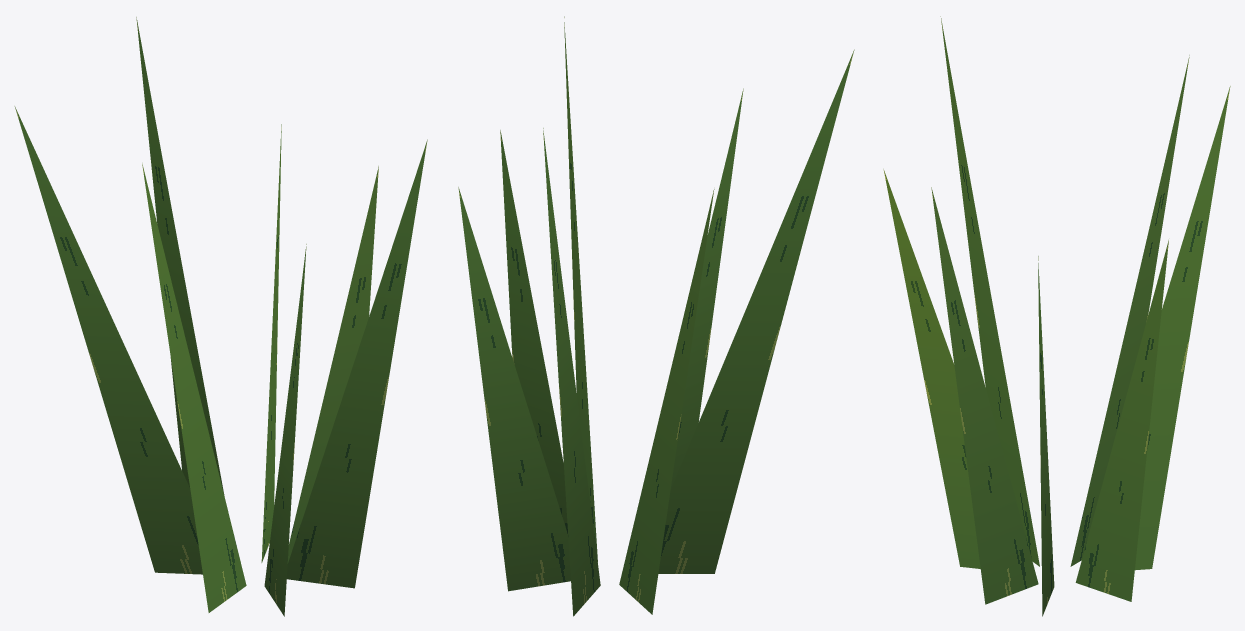
The model's file is wild.reeds.glb.
3 renders of one model, left to right at view 1: azimuth 30°, elevation 25°; view 2: azimuth 150°, elevation 25°; view 3: azimuth 270°, elevation 25°, orthographic. The views are drawn at different scales.
Visible parts, largest first — view 1: kit_shell_blades; view 2: kit_shell_blades; view 3: kit_shell_blades.
Part boxes in pixels (x1,y1,x2,y2): kit_shell_blades: [14, 17, 427, 616]; kit_shell_blades: [458, 16, 854, 616]; kit_shell_blades: [883, 16, 1230, 616].
Size of the model in its own units: 0.6181 by 1.03 by 0.674.
Materials: 1 (1 with a texture image).
